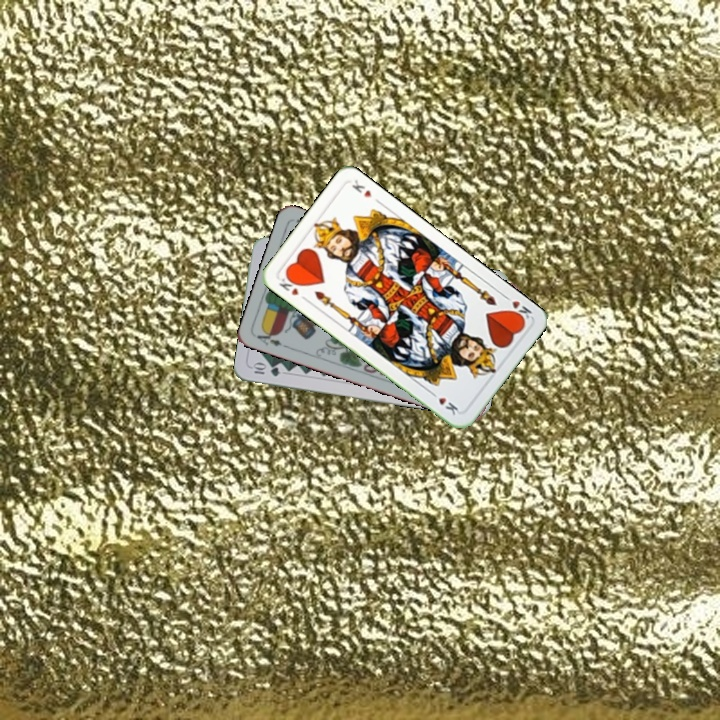EA: (253, 326, 291, 351)
G10: (248, 360, 283, 379)
HK: (275, 271, 310, 304), (499, 291, 534, 324)
